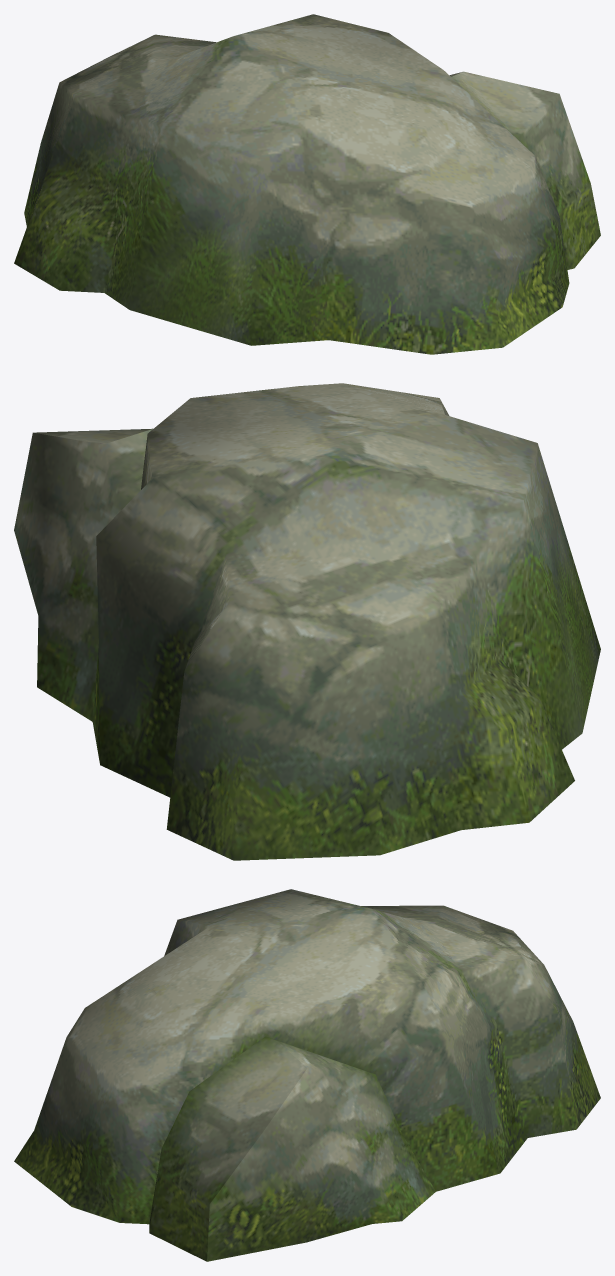
File: xl_shitou_7.FBX
3 views of the same model, one above another, from view 1: azimuth 30°, elevation 25°; view 2: azimuth 150°, elevation 25°; view 3: azimuth 270°, elevation 25° (orthographic). The views are drawn at different scales.
Visible parts, largest first — view 1: xl_shitou_7; view 2: xl_shitou_7; view 3: xl_shitou_7.
Part boxes in pixels (bbox=[...]): xl_shitou_7: bbox=[14, 14, 600, 354]; xl_shitou_7: bbox=[14, 383, 600, 860]; xl_shitou_7: bbox=[14, 889, 600, 1261].
Bounding box in the file's own units: 1945 × 827 × 2067.
